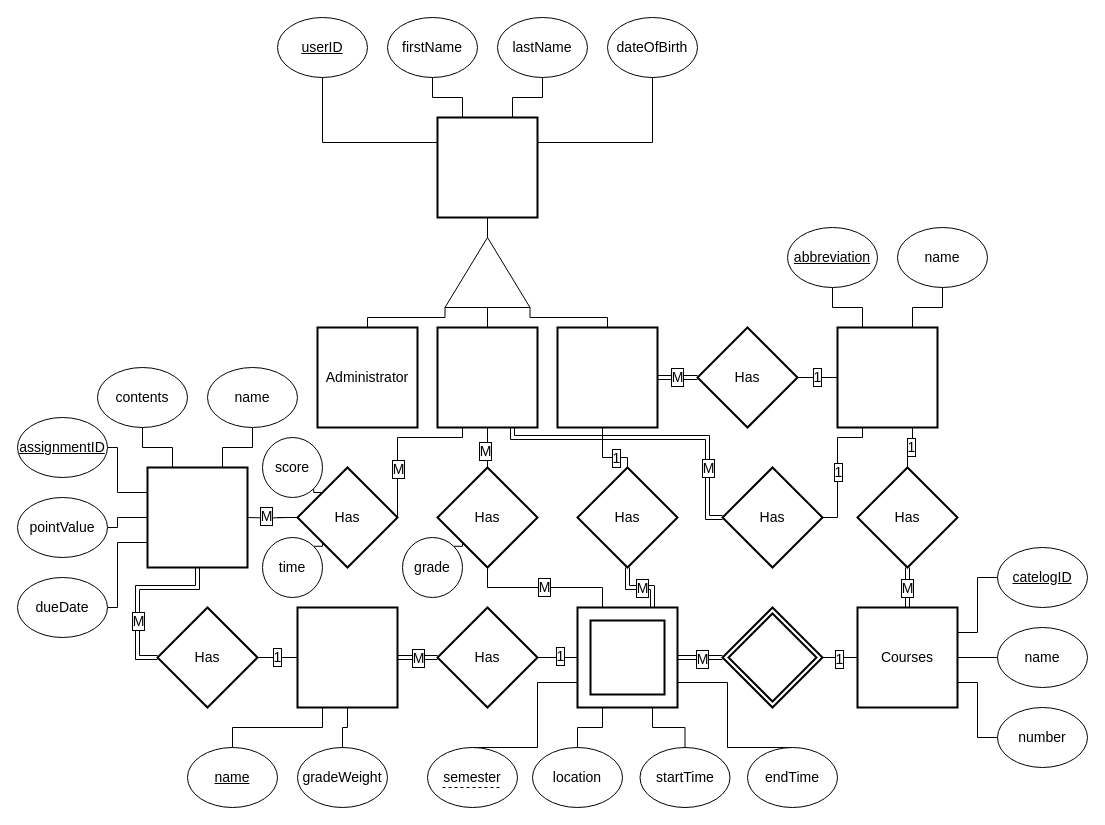
The diagram is 1105 pixels wide and 825 high, and some of its shapes have lost their labels. Each missing label, with the centre of its shape:
"Assignment Categories" goes at [347,657].
"Assignments" goes at [197,517].
"Classes" goes at [627,657].
"Departments" goes at [887,377].
"Instance Of" goes at [772,657].
"is a" goes at [487,272].
"Professor" goes at [607,377].
"Student" goes at [487,377].
"Users" goes at [487,167].
